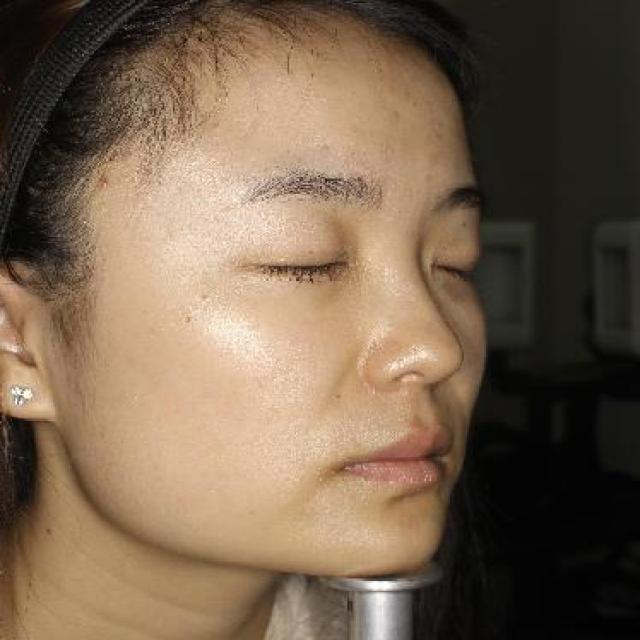blackheads: (318, 143, 334, 154), (198, 294, 210, 304)
dark spot: (436, 117, 448, 131)
whiteheads: (320, 526, 332, 539), (413, 232, 426, 243), (265, 323, 276, 331)
